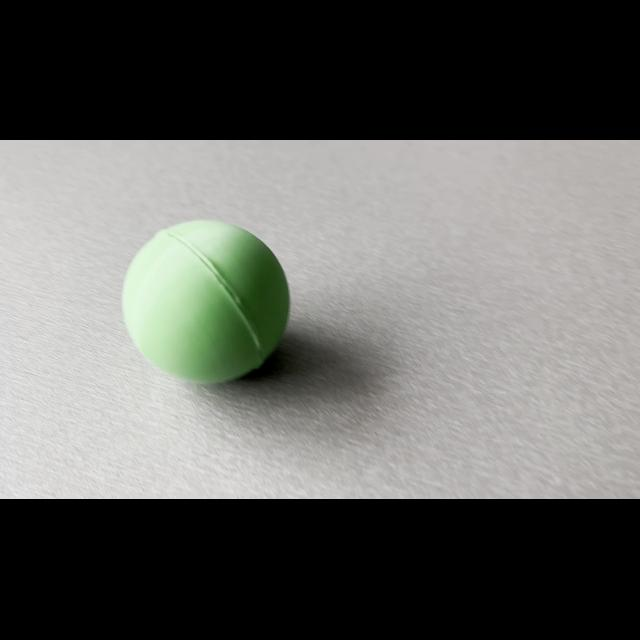objects: (114, 210, 306, 390)
